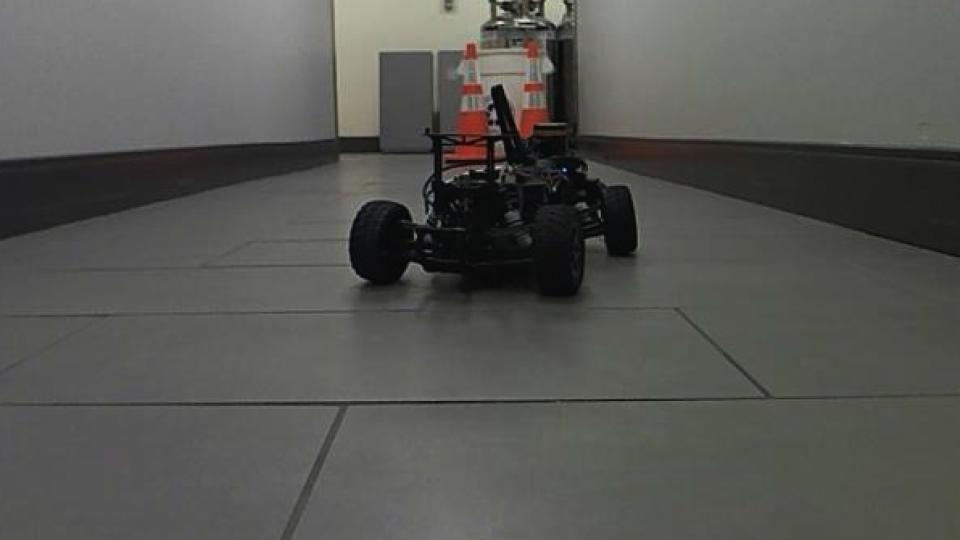car: (345, 83, 641, 299)
